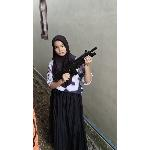Senapan: (53, 44, 99, 84)
